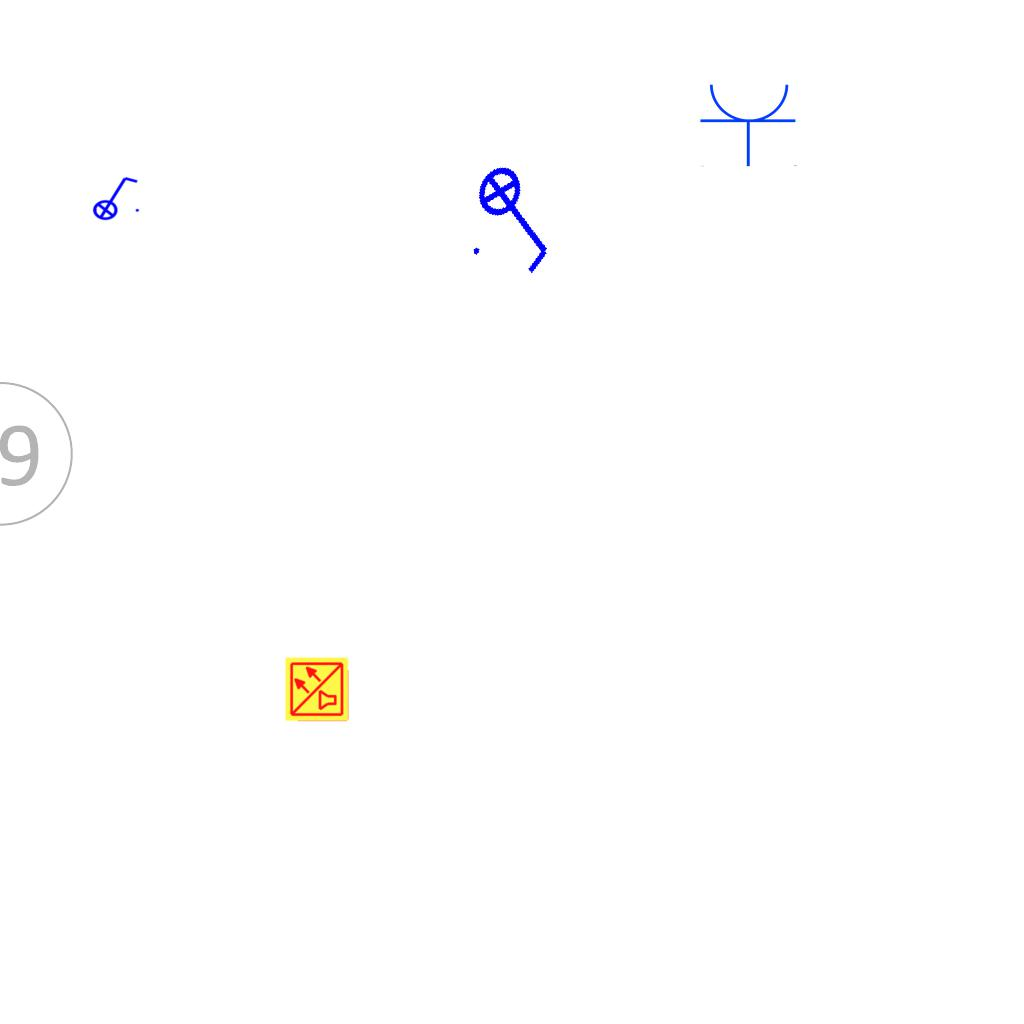Ausschalter_beleuchtet: (453, 147, 583, 287), (86, 173, 142, 221)
OKW_Multisensormelder_(Kombination_optischer_Rauch-Kahlenmonoxid_Waerme-Melder): (284, 656, 350, 722)
Schukosteckdose_einfach: (699, 80, 799, 167)
